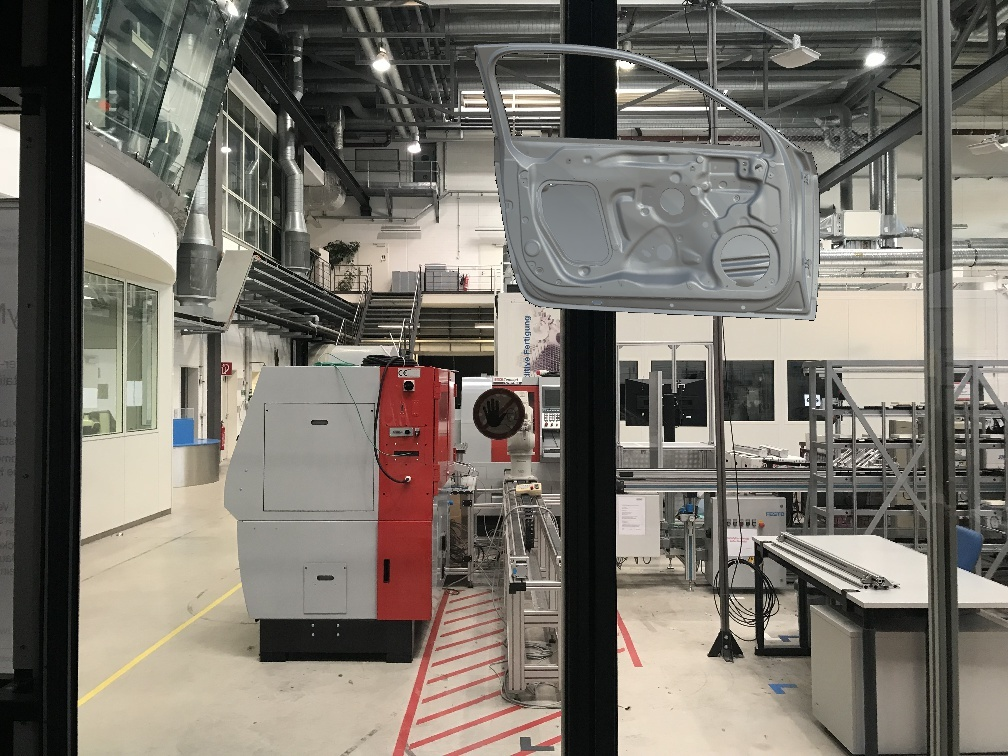car_door: (474, 43, 820, 320)
